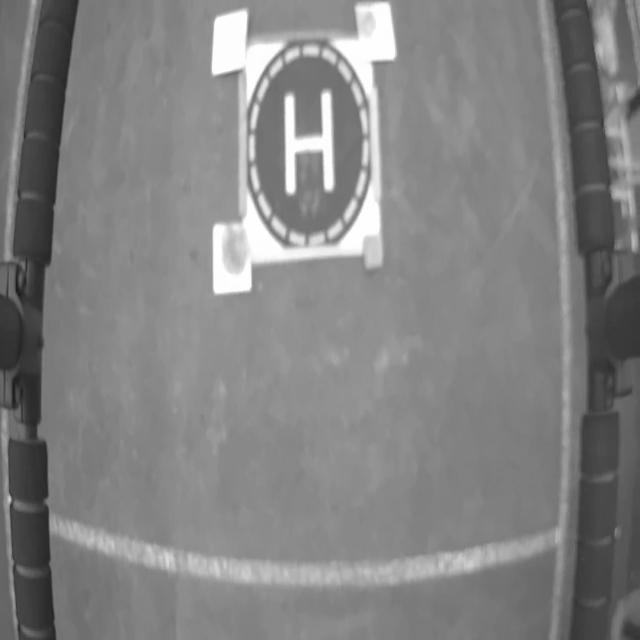Helipad: (284, 88, 336, 194)
